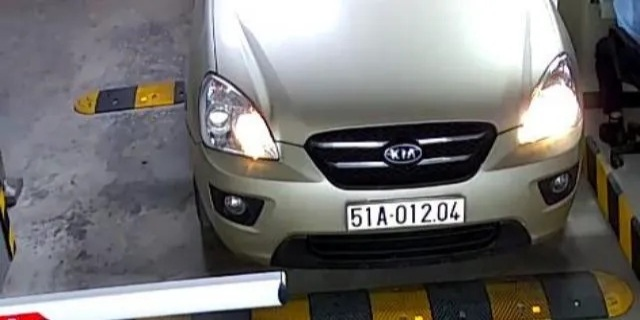bien_so: (348, 200, 464, 226)
